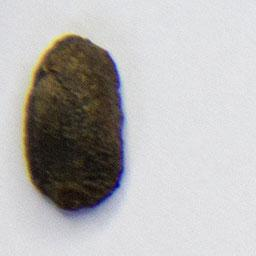defect: (13, 26, 135, 222)
